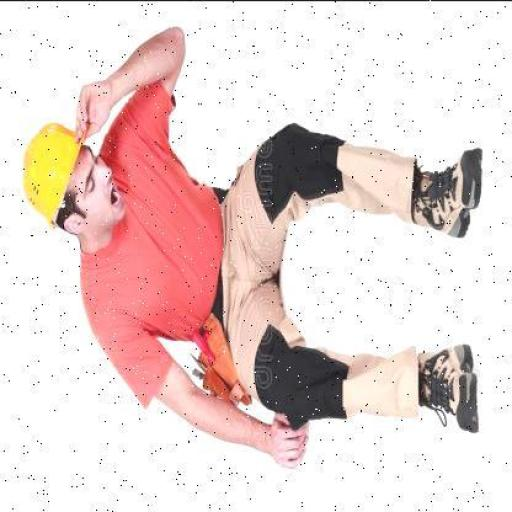person: (21, 28, 489, 476)
safety_shoe: (414, 330, 486, 442), (414, 148, 484, 231)
